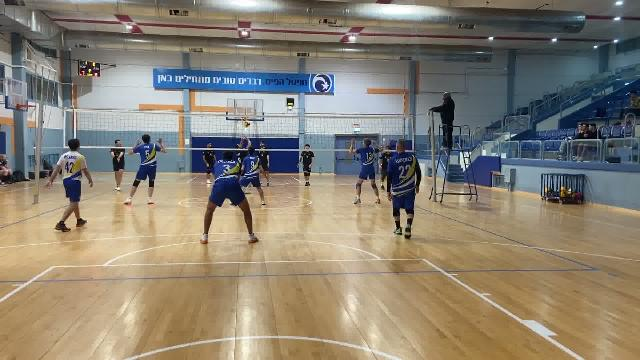ball: (243, 117, 251, 127)
